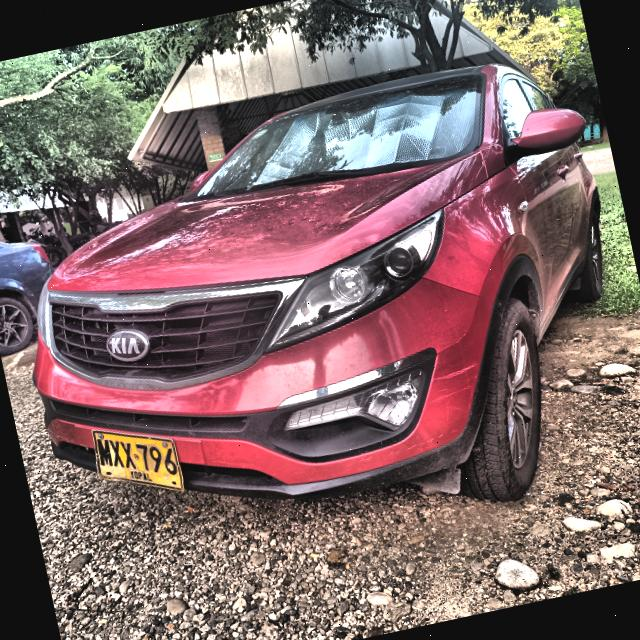6: (162, 447, 178, 475)
7: (134, 443, 151, 471)
9: (148, 444, 162, 473)
M: (96, 438, 113, 466)
X: (108, 439, 125, 468), (119, 440, 136, 469)
